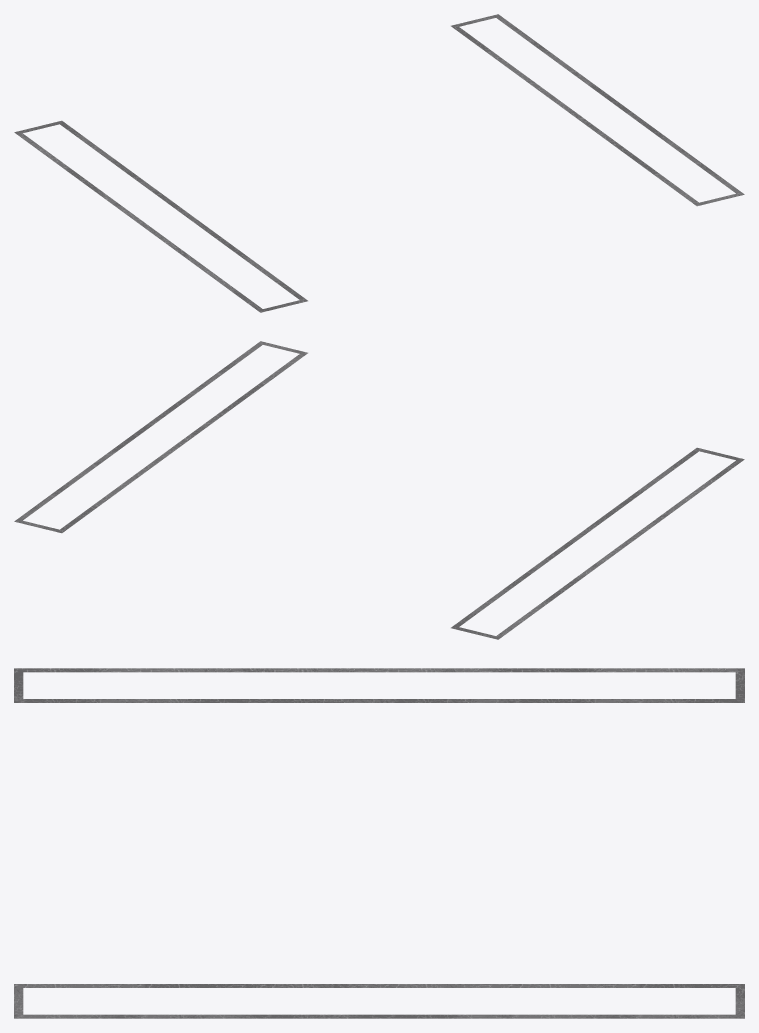
Rendered from touchdown_point_1-border.gltf.
The picture shows the model from 3 angles, top to bottom: view 1: azimuth 30°, elevation 25°; view 2: azimuth 150°, elevation 25°; view 3: azimuth 270°, elevation 25°; orthographic projection. The views are drawn at different scales.
Visible parts, largest first — view 1: touchdown_point_1-border; view 2: touchdown_point_1-border; view 3: touchdown_point_1-border.
Boxes of the visible parts, box(x1,y1,x2,y2) form: touchdown_point_1-border: box(14, 14, 744, 312); touchdown_point_1-border: box(14, 341, 744, 639); touchdown_point_1-border: box(14, 668, 744, 1018).
Size of the model in its own units: 26.2 by 0 by 23.1.
